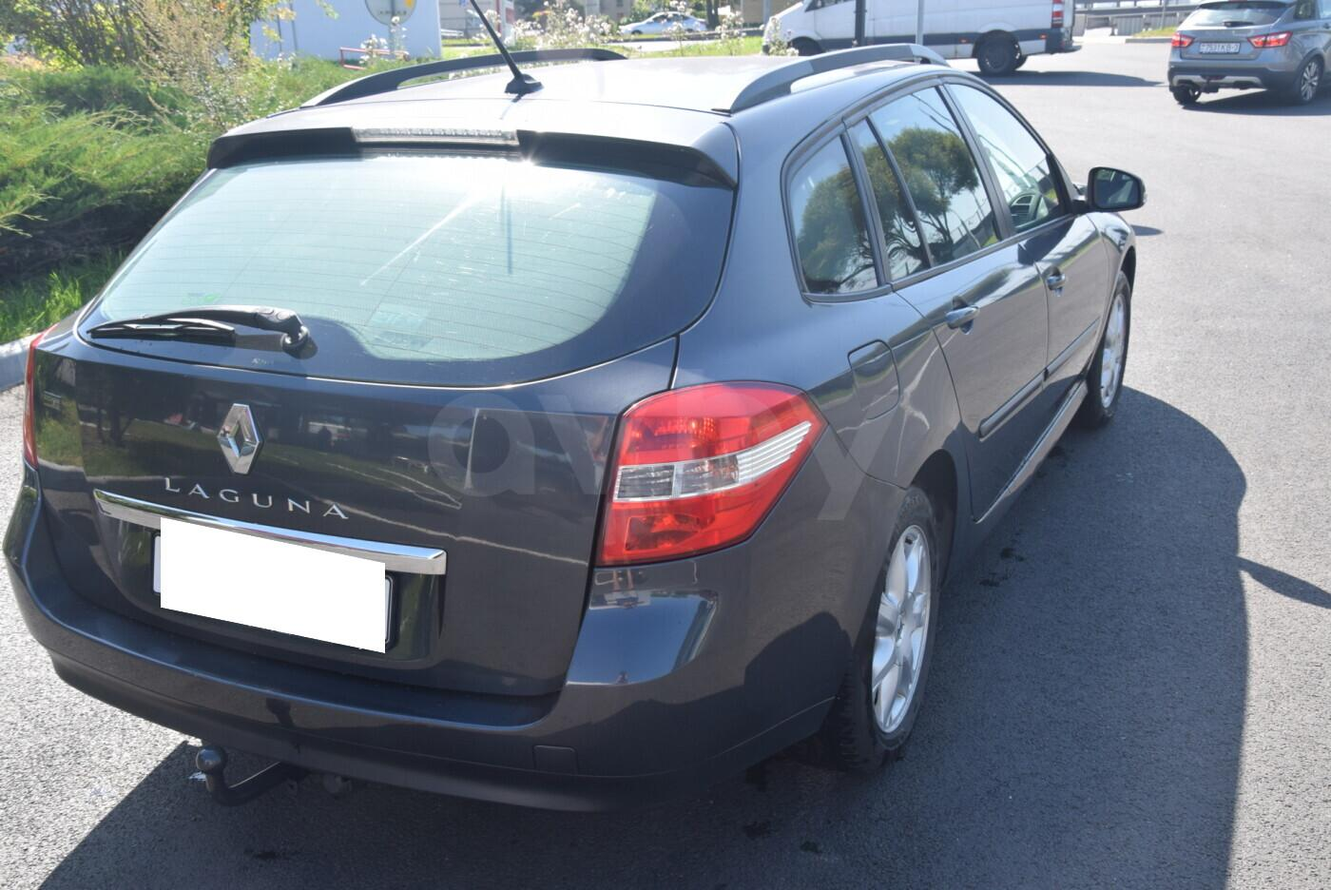Laguna_2007-2011: (0, 43, 1145, 809)
